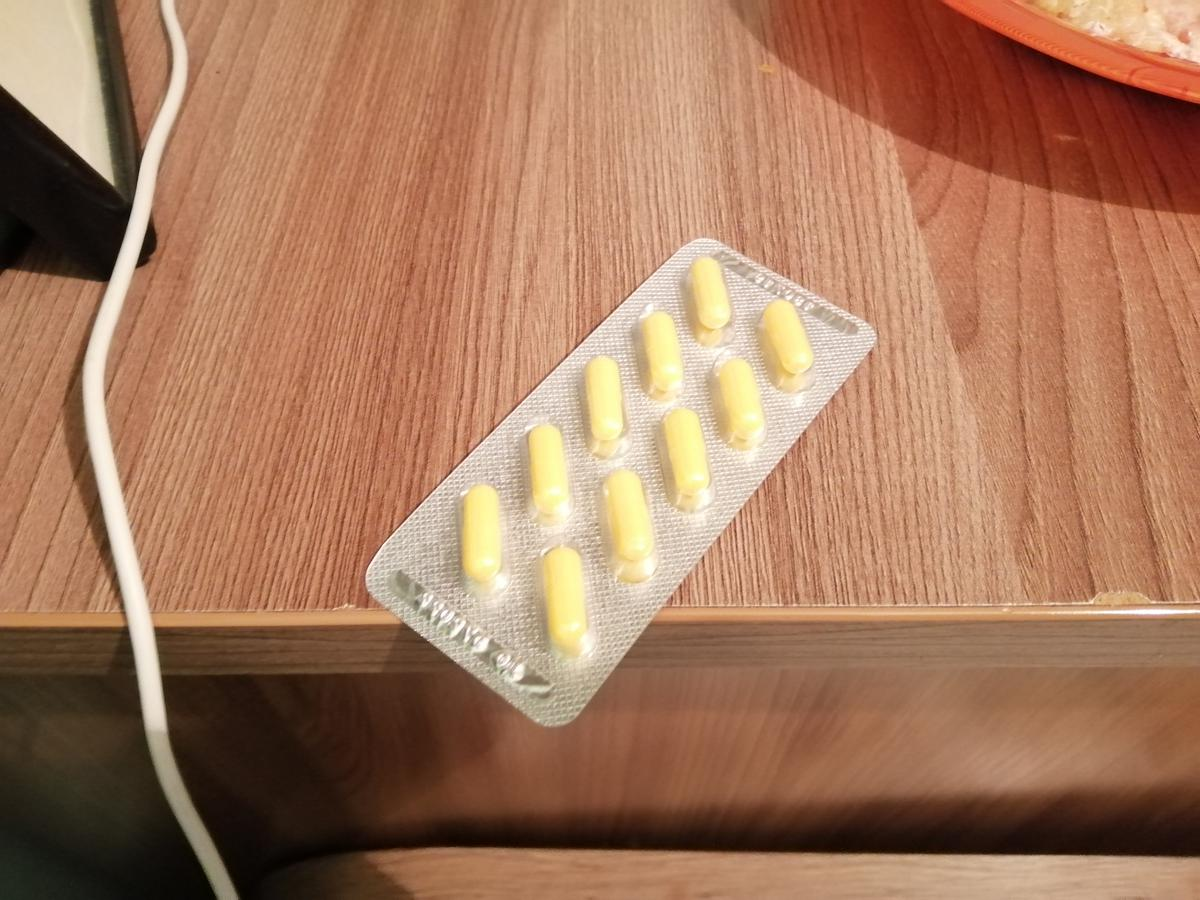capsule: (539, 548, 594, 654), (456, 483, 509, 589), (658, 406, 711, 509), (601, 470, 651, 570), (713, 355, 766, 449), (583, 353, 628, 455), (525, 420, 573, 515), (638, 306, 684, 398), (763, 295, 811, 381), (688, 254, 728, 333)
